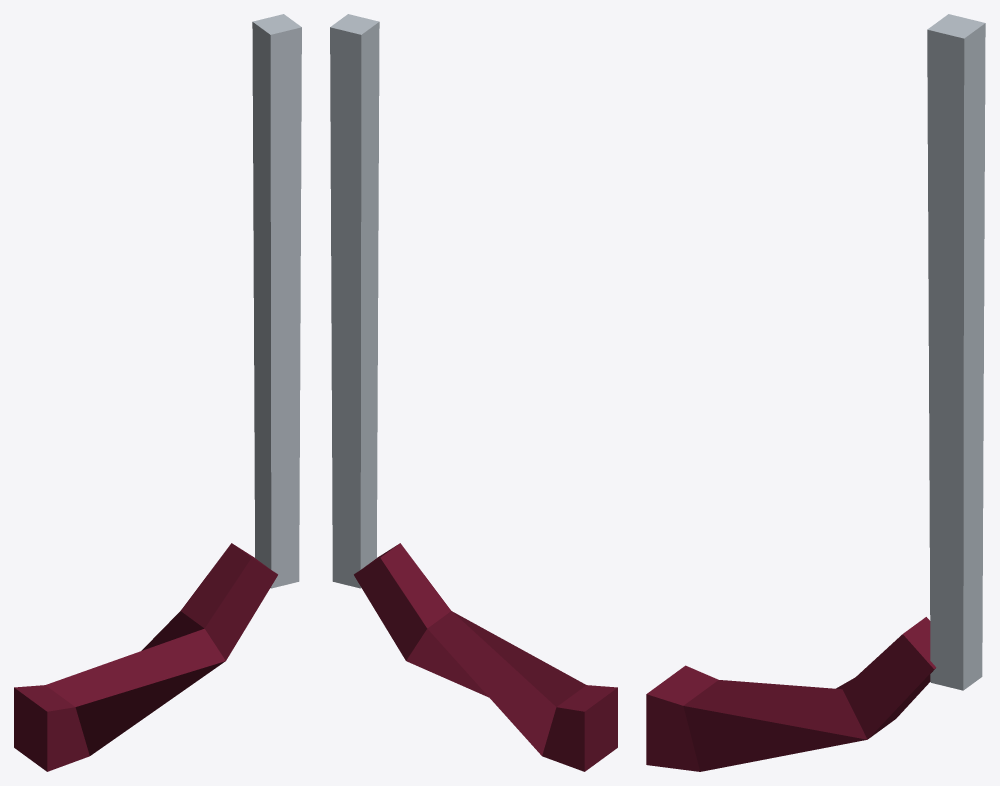
The model's file is SM_Prop_DuelPistol_LQ.glb.
The picture shows the model from 3 angles, left to right: view 1: azimuth 30°, elevation 25°; view 2: azimuth 150°, elevation 25°; view 3: azimuth 330°, elevation 25°; orthographic projection. The views are drawn at different scales.
Parts seen in each view (by area): view 1: SM_Prop_DuelPistol_LQ; view 2: SM_Prop_DuelPistol_LQ; view 3: SM_Prop_DuelPistol_LQ.
Part boxes in pixels (x1=…): SM_Prop_DuelPistol_LQ: x1=14, y1=14, x2=301, y2=771; SM_Prop_DuelPistol_LQ: x1=330, y1=14, x2=617, y2=771; SM_Prop_DuelPistol_LQ: x1=646, y1=14, x2=985, y2=771.
Size of the model in its own units: 0.2127 by 0.5233 by 0.0467.
1 material, 1 textured.
